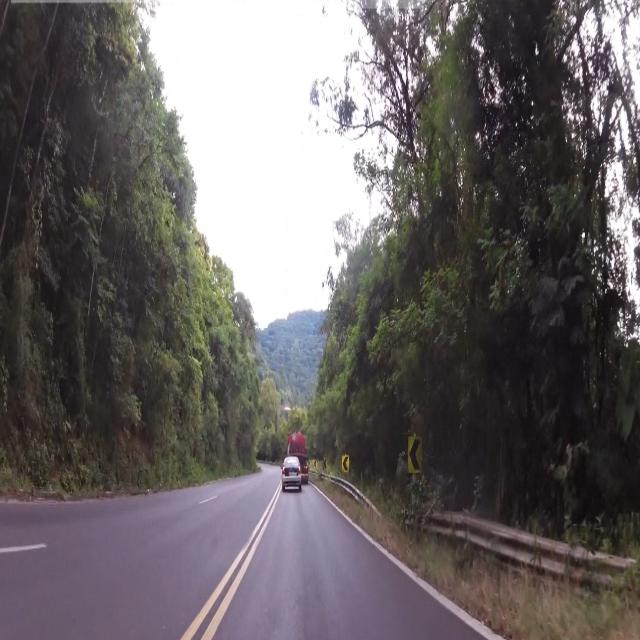Del: (409, 432, 423, 476)
